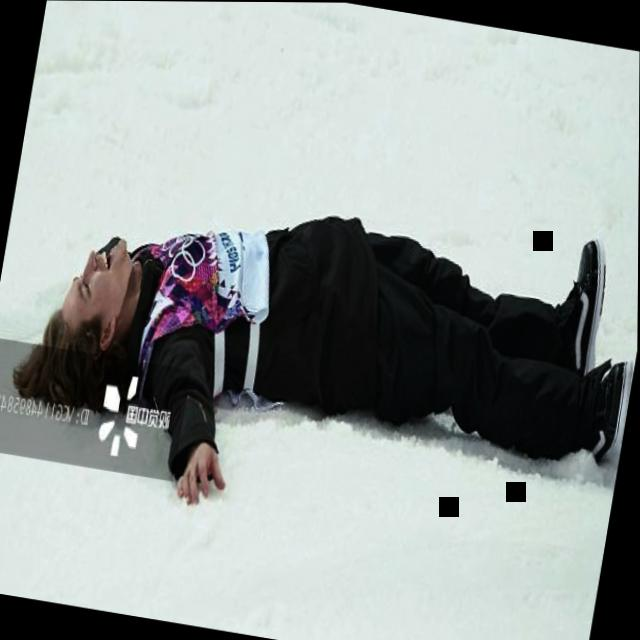Fall-Detected: (2, 124, 639, 575)
